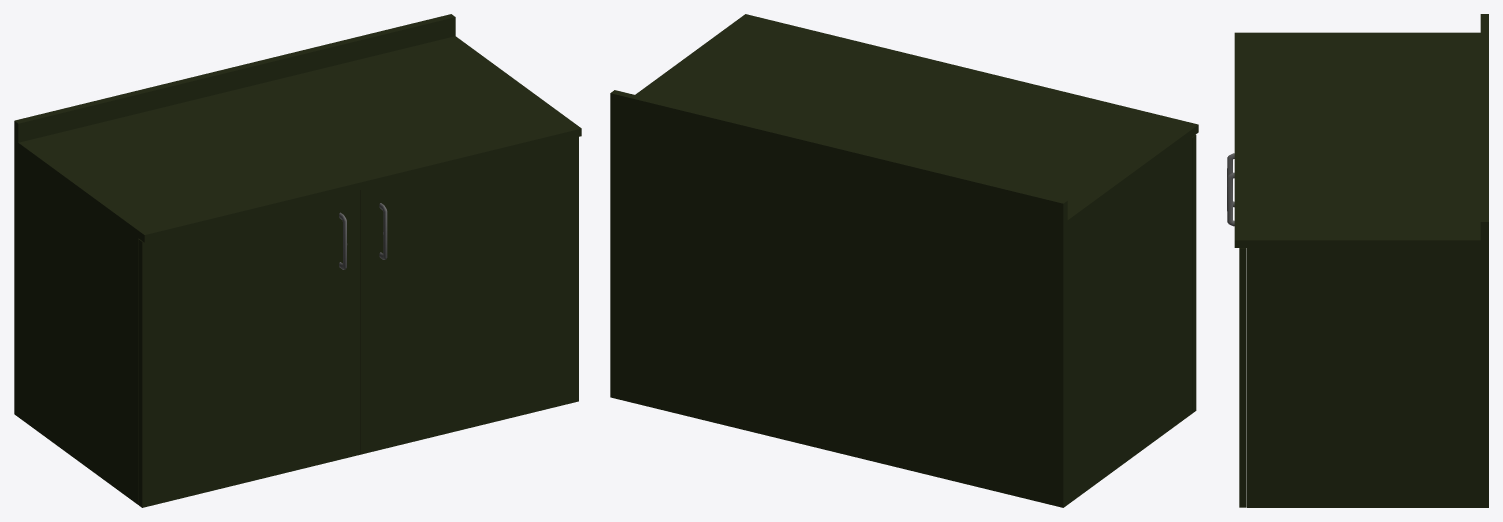
File: cab.fbx
3 renders of one model, left to right at view 1: azimuth 30°, elevation 25°; view 2: azimuth 150°, elevation 25°; view 3: azimuth 270°, elevation 25°, orthographic. The views are drawn at different scales.
Parts seen in each view (by area): view 1: Cabinet1_Door; view 2: Cabinet1_Door; view 3: Cabinet1_Door.
Part boxes in pixels (<box>): Cabinet1_Door: <box>14,14,581,507</box>; Cabinet1_Door: <box>610,14,1198,507</box>; Cabinet1_Door: <box>1227,14,1488,507</box>.
Bounding box in the file's own units: 120 × 77 × 63.9.
